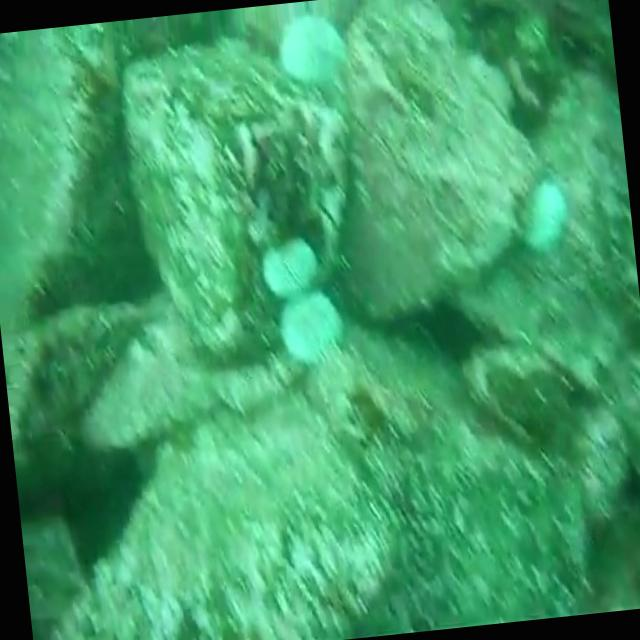Deniz Kestanesi: (267, 2, 363, 92), (264, 282, 346, 368), (514, 175, 570, 257), (257, 232, 321, 294)
